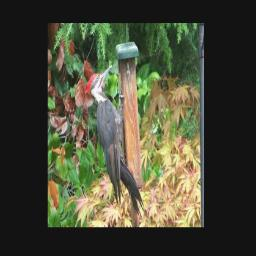Woodpecker: (84, 64, 144, 216)
